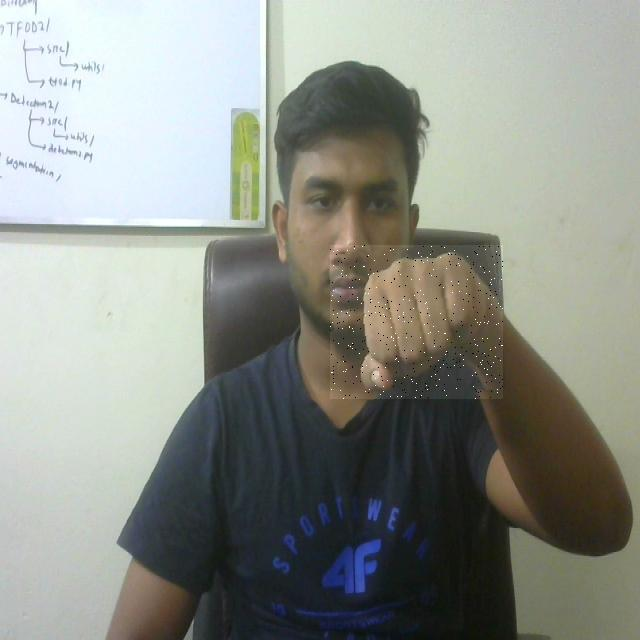Yes: (330, 245, 503, 399)
